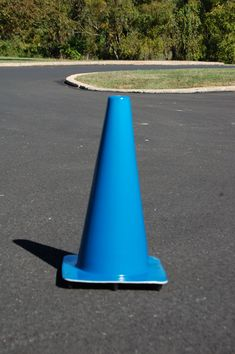cone: (59, 92, 171, 288)
